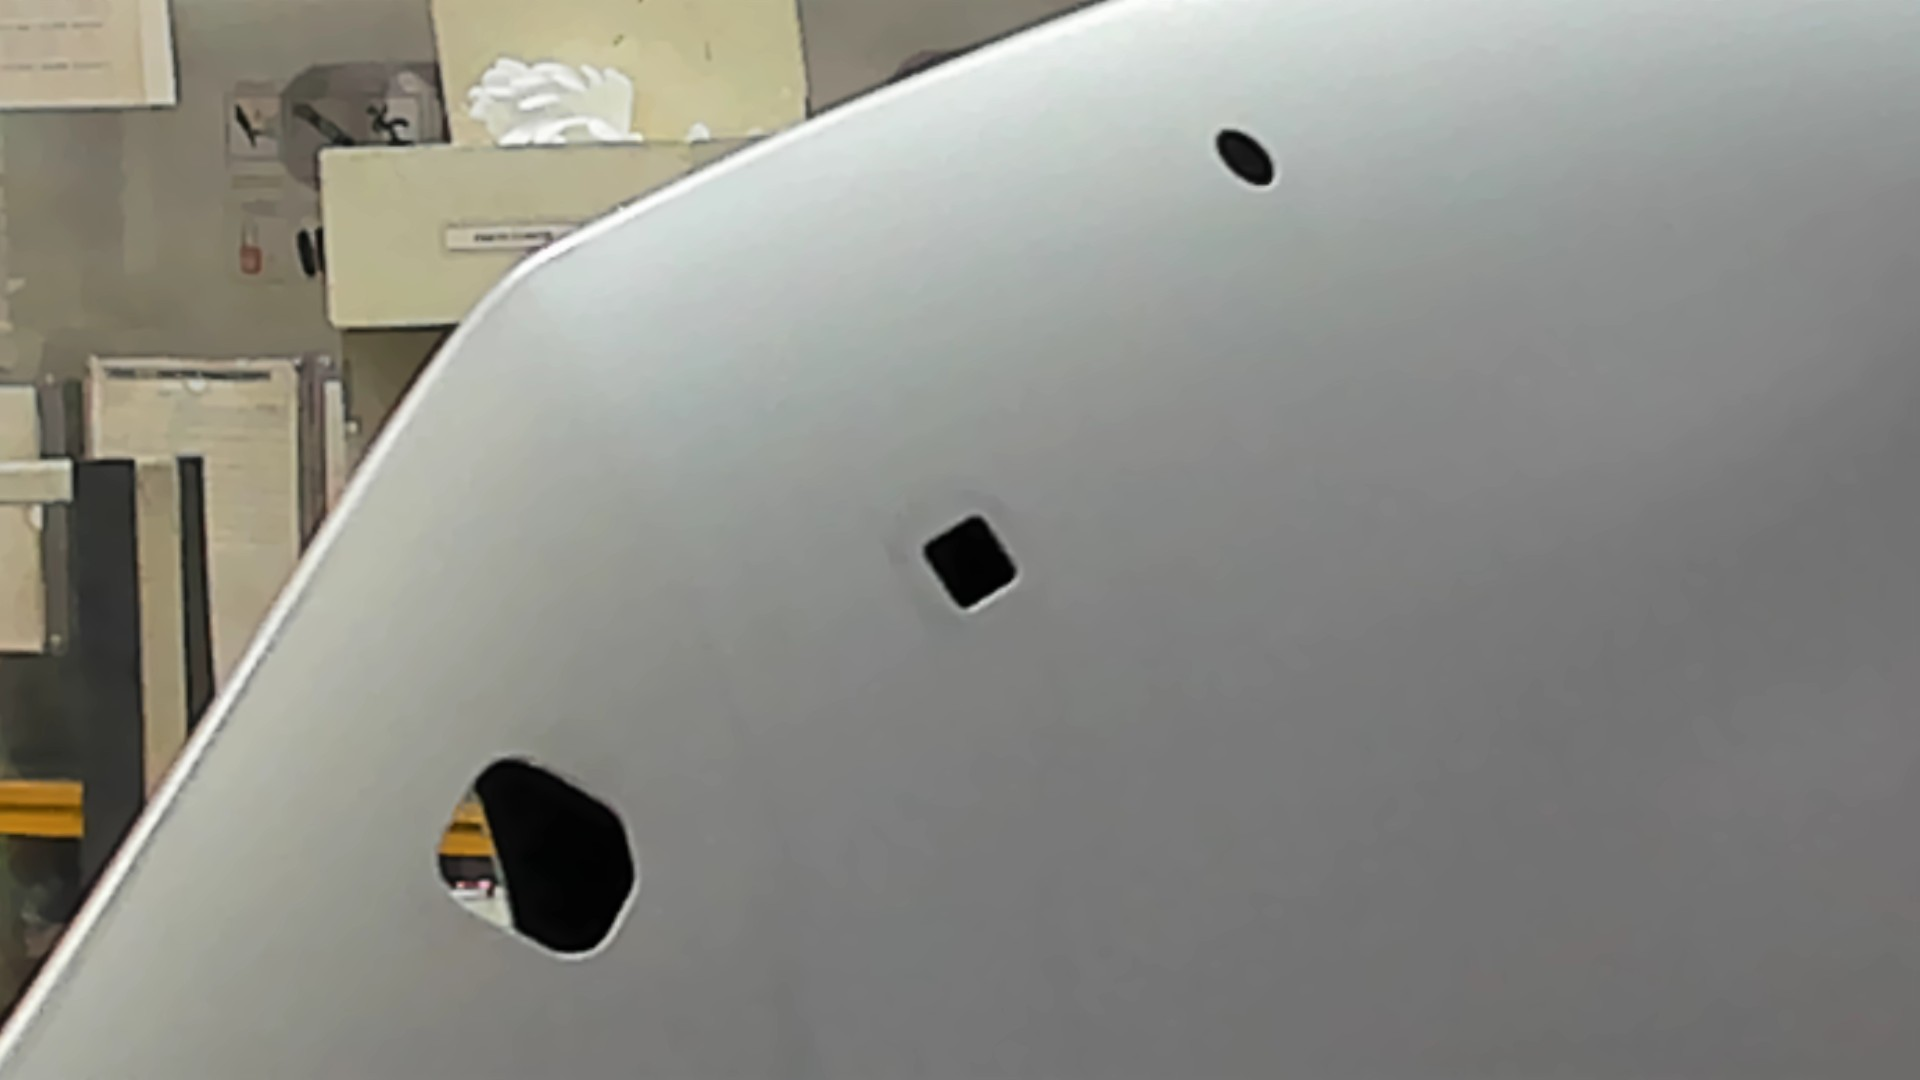Agujero: (919, 512, 1019, 612), (1215, 127, 1276, 187)
Agujerote: (436, 756, 638, 961)
